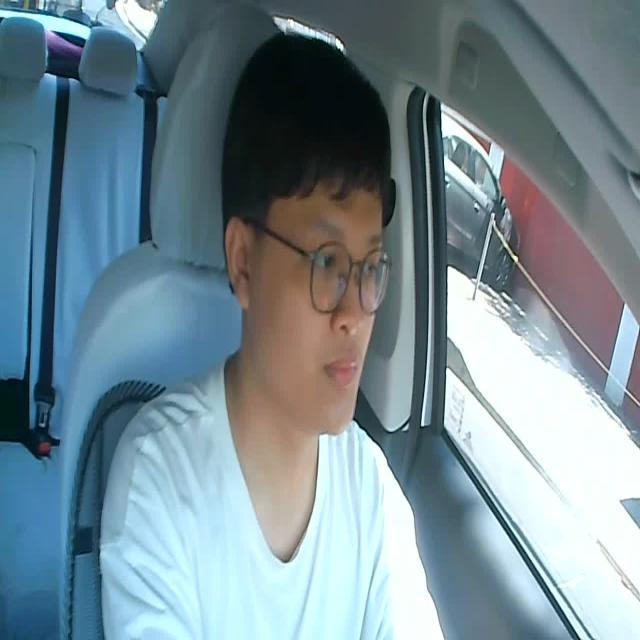Attentive: (221, 30, 394, 432)
Eye-Open: (312, 250, 337, 273), (355, 256, 377, 278)
Normal: (323, 352, 362, 388)
